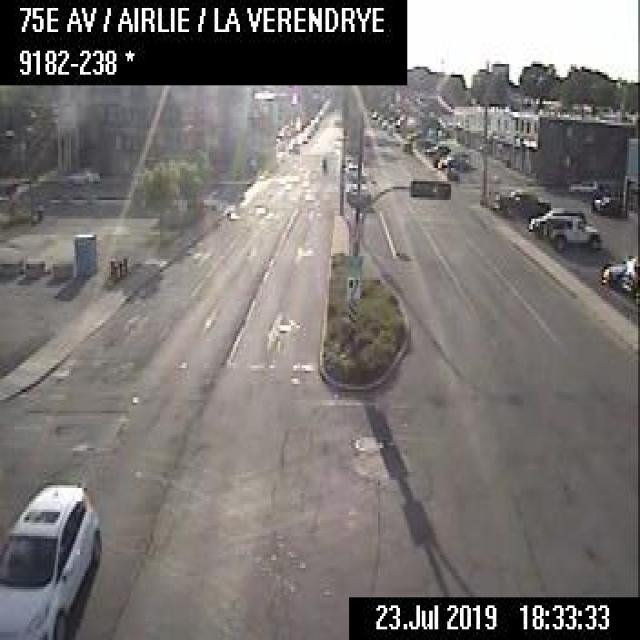construction: (111, 259, 119, 279), (118, 258, 124, 277)
vehicle: (0, 478, 102, 638), (546, 212, 600, 250), (492, 188, 548, 215), (528, 204, 572, 232), (591, 190, 624, 214), (66, 166, 98, 184), (567, 176, 595, 194), (318, 154, 326, 171)
